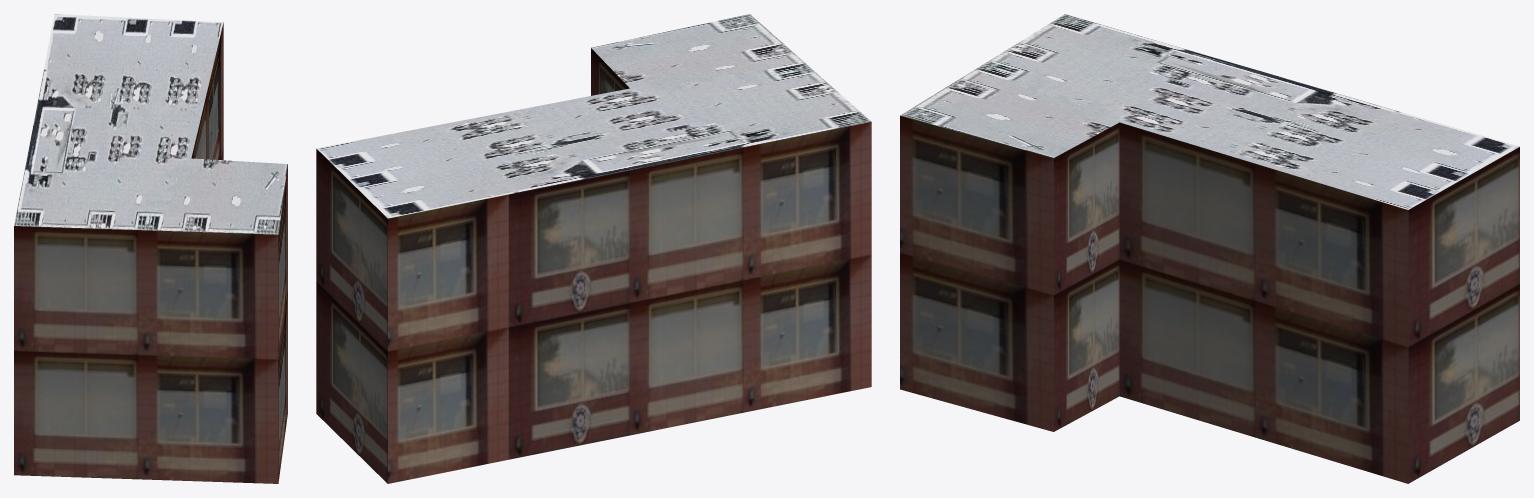
Rendered from ResTex__3209.fbx.
3 renders of one model, left to right at view 1: azimuth 30°, elevation 25°; view 2: azimuth 150°, elevation 25°; view 3: azimuth 270°, elevation 25°, orthographic. The views are drawn at different scales.
Visible parts, largest first — view 1: CityEngineMaterial_13_m, CityEngineMaterial_4_m; view 2: CityEngineMaterial_13_m, CityEngineMaterial_4_m; view 3: CityEngineMaterial_13_m, CityEngineMaterial_4_m.
Boxes of the visible parts, left/top/right/bottom form: CityEngineMaterial_13_m: left=14, top=22, right=287, bottom=483; CityEngineMaterial_4_m: left=14, top=14, right=287, bottom=234; CityEngineMaterial_13_m: left=316, top=48, right=871, bottom=483; CityEngineMaterial_4_m: left=316, top=14, right=871, bottom=218; CityEngineMaterial_13_m: left=900, top=115, right=1519, bottom=483; CityEngineMaterial_4_m: left=900, top=14, right=1519, bottom=209.
Size of the model in its own units: 9.21 by 6 by 12.3.
Materials: 2 (2 with a texture image).
